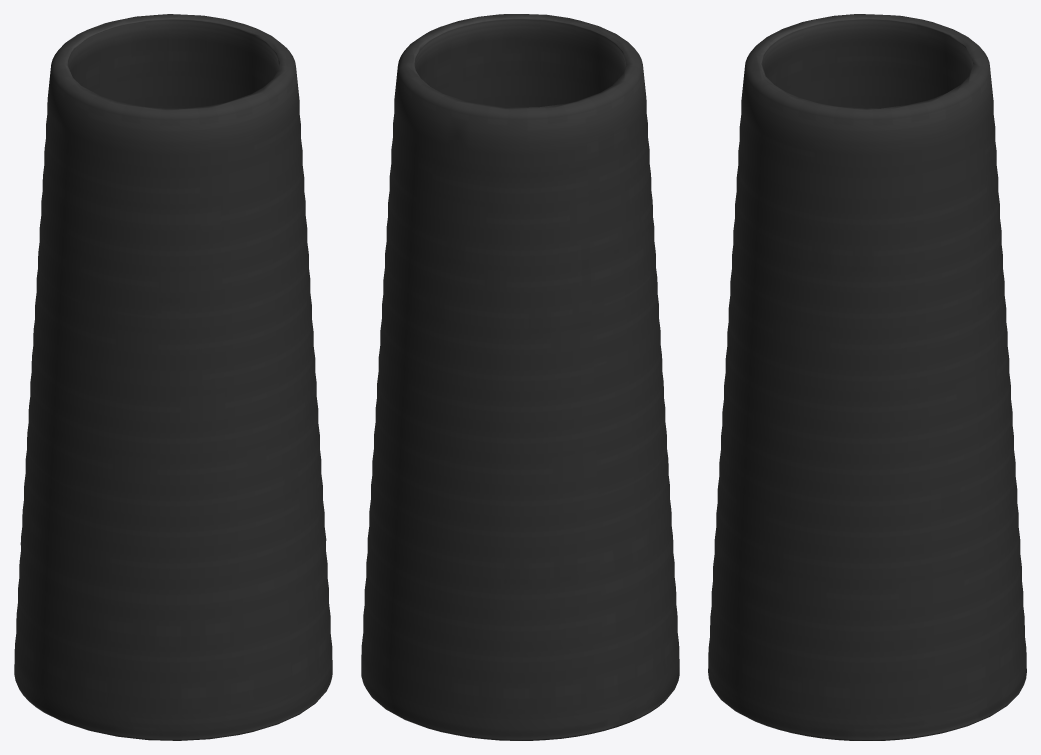
Rendered from abo-B07QD6ZV9Q.glb.
3 views of the same model, side by side, from view 1: azimuth 30°, elevation 25°; view 2: azimuth 150°, elevation 25°; view 3: azimuth 270°, elevation 25° (orthographic).
Parts seen in each view (by area): view 1: RootNode; view 2: RootNode; view 3: RootNode.
Part boxes in pixels (<box>): RootNode: <box>14,14,332,740</box>; RootNode: <box>361,14,679,740</box>; RootNode: <box>708,14,1026,740</box>.
Bounding box in the file's own units: 0.1365 × 0.2894 × 0.1365.
Materials: 1 (1 with a texture image).
